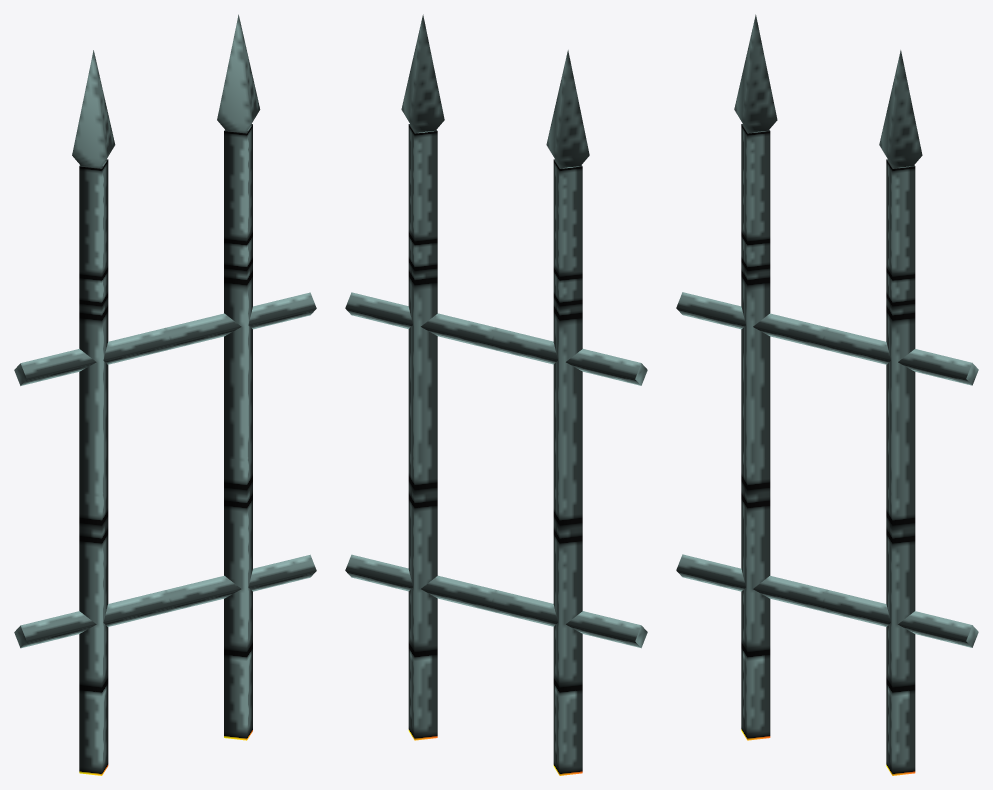
Rendered from deco_cathedral_railing.FBX.
The picture shows the model from 3 angles, left to right: view 1: azimuth 30°, elevation 25°; view 2: azimuth 150°, elevation 25°; view 3: azimuth 330°, elevation 25°; orthographic projection.
Parts seen in each view (by area): view 1: deco_cathedral_railing; view 2: deco_cathedral_railing; view 3: deco_cathedral_railing.
Boxes of the visible parts, x1,y1,x2,y2 form: deco_cathedral_railing: [14, 14, 316, 775]; deco_cathedral_railing: [345, 14, 647, 775]; deco_cathedral_railing: [676, 14, 978, 775].
Size of the model in its own units: 2 by 4.75 by 0.2987.
Materials: 1 (1 with a texture image).
